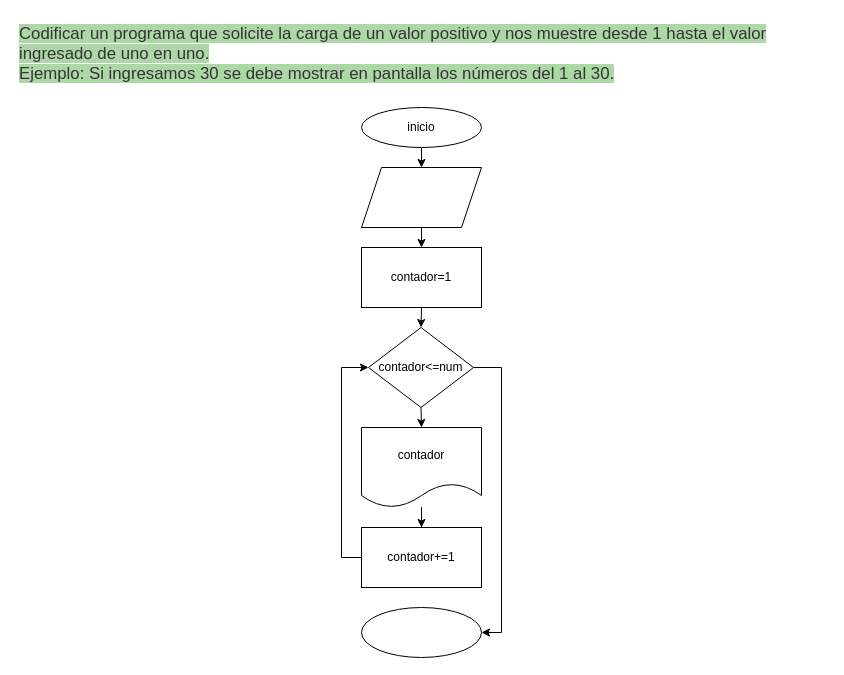
This 844x675 diagram has some shape labels left out. The shapes that lost their labels are listed below. From the top down, each one's box as (x1, y1, x2, y2) in pixels, then its label:
(360, 166, 482, 228): num
(360, 606, 482, 658): fin
